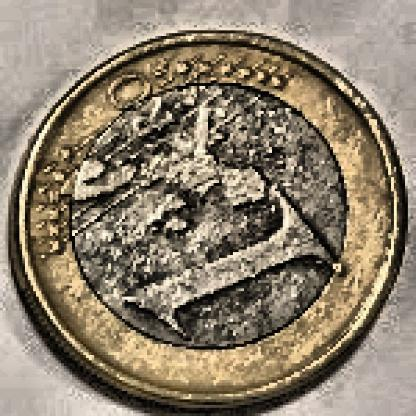coin: (11, 31, 406, 414)
